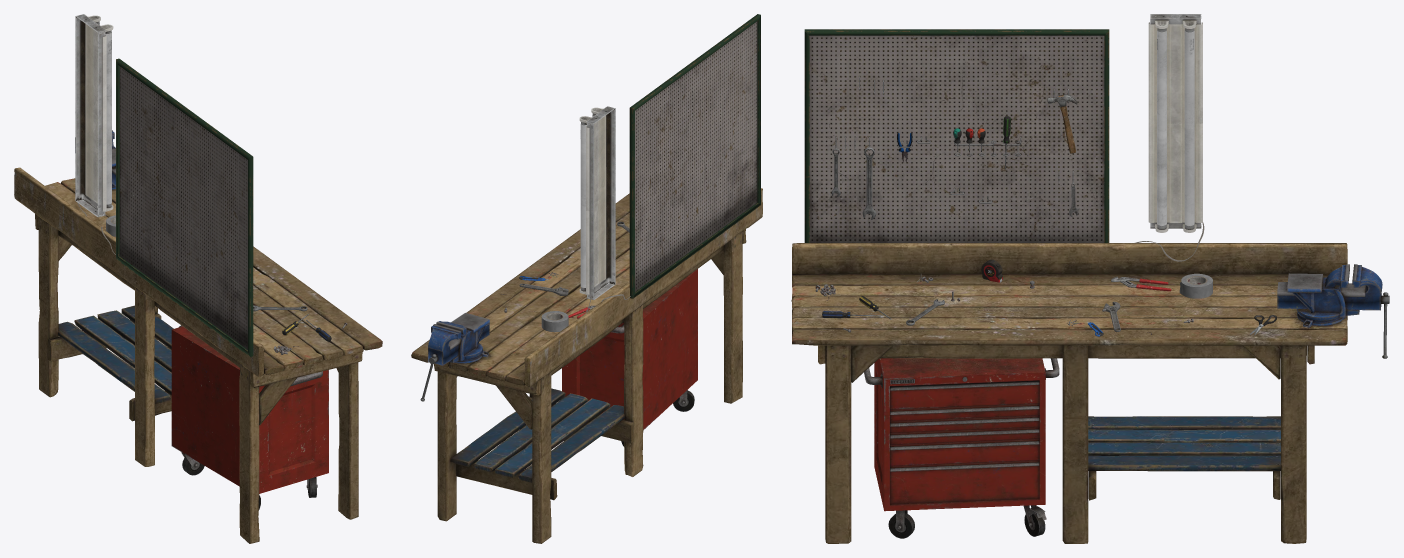
The model's file is old_work_bench-opt.glb.
The picture shows the model from 3 angles, left to right: view 1: azimuth 30°, elevation 25°; view 2: azimuth 150°, elevation 25°; view 3: azimuth 270°, elevation 25°; orthographic projection. The views are drawn at different scales.
Parts seen in each view (by area): view 1: Workbench_Group_1_low_Mat_Workbench_0, Pegboard_Sheet_low_Mat_Pegboard_0, Tool_Cabinet_Body_low_Mat_Tool_Cabinet_0, Light_Fixture_Base_low_Mat_Light_Fixture_0, Hardware_low_Mat_Tools_0; view 2: Workbench_Group_1_low_Mat_Workbench_0, Pegboard_Sheet_low_Mat_Pegboard_0, Tool_Cabinet_Body_low_Mat_Tool_Cabinet_0, Light_Fixture_Base_low_Mat_Light_Fixture_0, Vice_Slide_low_Mat_Vice_0, Hardware_low_Mat_Tools_0; view 3: Workbench_Group_1_low_Mat_Workbench_0, Pegboard_Sheet_low_Mat_Pegboard_0, Tool_Cabinet_Body_low_Mat_Tool_Cabinet_0, Light_Fixture_Base_low_Mat_Light_Fixture_0, Hardware_low_Mat_Tools_0, Vice_Slide_low_Mat_Vice_0.
Boxes of the visible parts, bbox=[...] form: Workbench_Group_1_low_Mat_Workbench_0: bbox=[14, 167, 382, 543]; Pegboard_Sheet_low_Mat_Pegboard_0: bbox=[116, 58, 253, 356]; Tool_Cabinet_Body_low_Mat_Tool_Cabinet_0: bbox=[171, 325, 328, 510]; Light_Fixture_Base_low_Mat_Light_Fixture_0: bbox=[75, 14, 115, 254]; Hardware_low_Mat_Tools_0: bbox=[106, 215, 347, 354]; Workbench_Group_1_low_Mat_Workbench_0: bbox=[411, 188, 762, 543]; Pegboard_Sheet_low_Mat_Pegboard_0: bbox=[629, 14, 760, 298]; Tool_Cabinet_Body_low_Mat_Tool_Cabinet_0: bbox=[562, 269, 697, 446]; Light_Fixture_Base_low_Mat_Light_Fixture_0: bbox=[579, 106, 630, 312]; Vice_Slide_low_Mat_Vice_0: bbox=[420, 313, 489, 401]; Hardware_low_Mat_Tools_0: bbox=[500, 221, 629, 332]; Workbench_Group_1_low_Mat_Workbench_0: bbox=[791, 243, 1347, 543]; Pegboard_Sheet_low_Mat_Pegboard_0: bbox=[804, 29, 1109, 242]; Tool_Cabinet_Body_low_Mat_Tool_Cabinet_0: bbox=[864, 358, 1059, 538]; Light_Fixture_Base_low_Mat_Light_Fixture_0: bbox=[1135, 14, 1204, 261]; Hardware_low_Mat_Tools_0: bbox=[815, 94, 1276, 336]; Vice_Slide_low_Mat_Vice_0: bbox=[1277, 264, 1389, 358].
Size of the model in its own units: 0.699 by 2.14 by 2.49.
6 materials, 6 textured.
